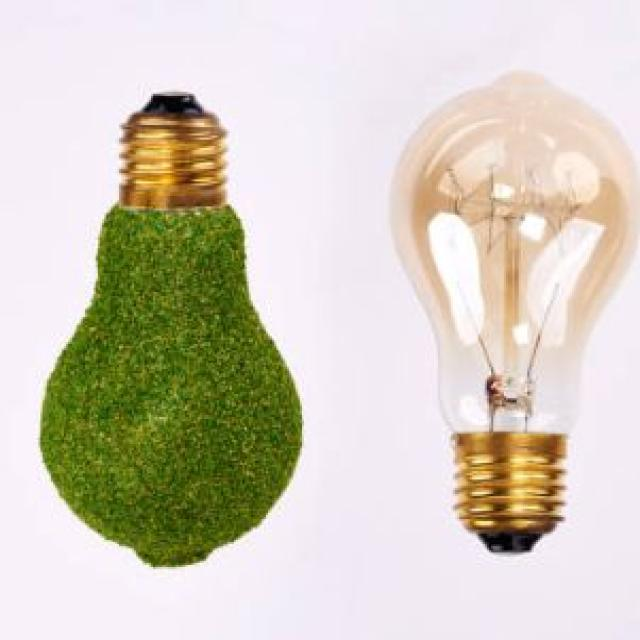electronic: (38, 88, 302, 567), (387, 67, 638, 554)
